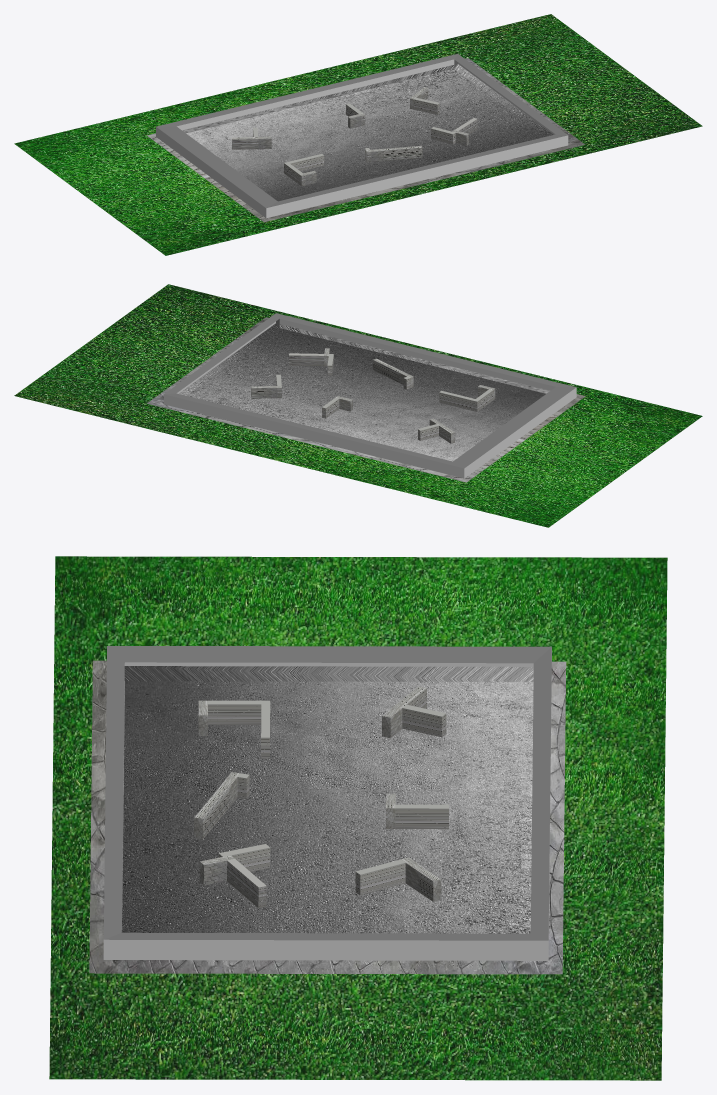
File: mapa.glb
3 renders of one model, top to bottom at view 1: azimuth 30°, elevation 25°; view 2: azimuth 150°, elevation 25°; view 3: azimuth 270°, elevation 25°, orthographic. The views are drawn at different scales.
Visible parts, largest first — view 1: Plane.002, Plane, Plane.001, Cube.005, Cube.002, Cube.003, Cube.001, Cube.004; view 2: Plane.002, Plane, Plane.001, Cube.005, Cube.003, Cube.002, Cube.001, Cube.004, Cube; view 3: Plane.002, Plane, Plane.001, Cube.003, Cube.004, Cube.005, Cube.001, Cube, Cube.002.
Part boxes in pixels (bbox=[...]): Plane.002: bbox=[14, 14, 702, 255]; Plane: bbox=[156, 54, 568, 218]; Plane.001: bbox=[147, 58, 584, 222]; Cube.005: bbox=[284, 154, 324, 186]; Cube.002: bbox=[365, 145, 422, 162]; Cube.003: bbox=[431, 118, 477, 145]; Cube.001: bbox=[232, 127, 271, 149]; Cube.004: bbox=[410, 87, 439, 114]; Plane.002: bbox=[14, 284, 702, 527]; Plane: bbox=[164, 313, 576, 478]; Plane.001: bbox=[147, 317, 585, 482]; Cube.005: bbox=[439, 385, 495, 411]; Cube.003: bbox=[289, 348, 333, 375]; Cube.002: bbox=[373, 358, 413, 389]; Cube.001: bbox=[418, 418, 454, 443]; Cube.004: bbox=[251, 374, 281, 398]; Cube: bbox=[322, 396, 352, 418]; Plane.002: bbox=[49, 556, 667, 1080]; Plane: bbox=[103, 646, 551, 960]; Plane.001: bbox=[89, 660, 566, 974]; Cube.003: bbox=[199, 844, 270, 907]; Cube.004: bbox=[355, 857, 441, 901]; Cube.005: bbox=[198, 700, 270, 758]; Cube.001: bbox=[382, 686, 446, 738]; Cube: bbox=[386, 793, 448, 829]; Cube.002: bbox=[194, 772, 249, 839].
Size of the model in its own units: 121 by 2.56 by 60.38.
6 materials, 5 textured.
